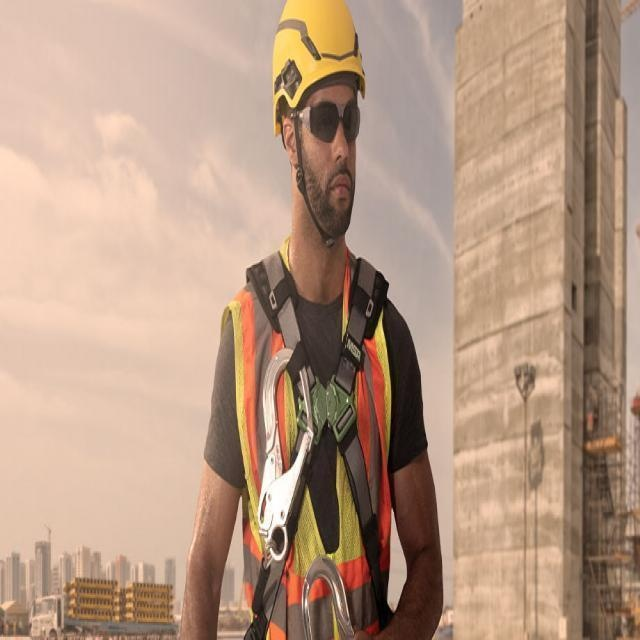Arnes_seguridad: (240, 244, 399, 640)
